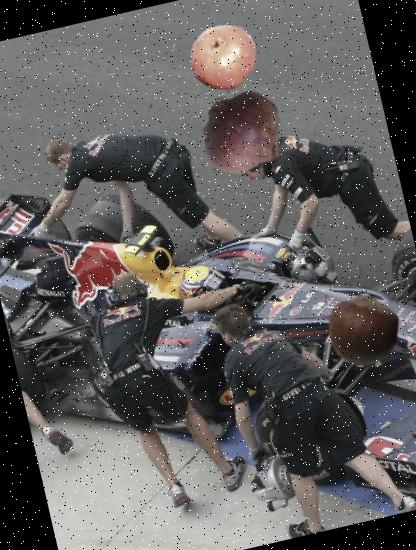Clementine: (180, 16, 264, 100)
Nut: (319, 286, 407, 374)
Onion: (192, 80, 301, 190)
